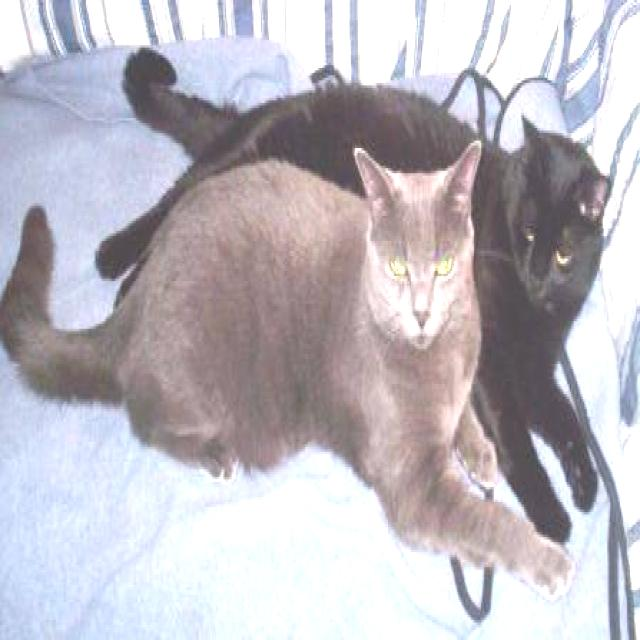Kucing: (0, 137, 483, 571), (485, 69, 635, 504)
